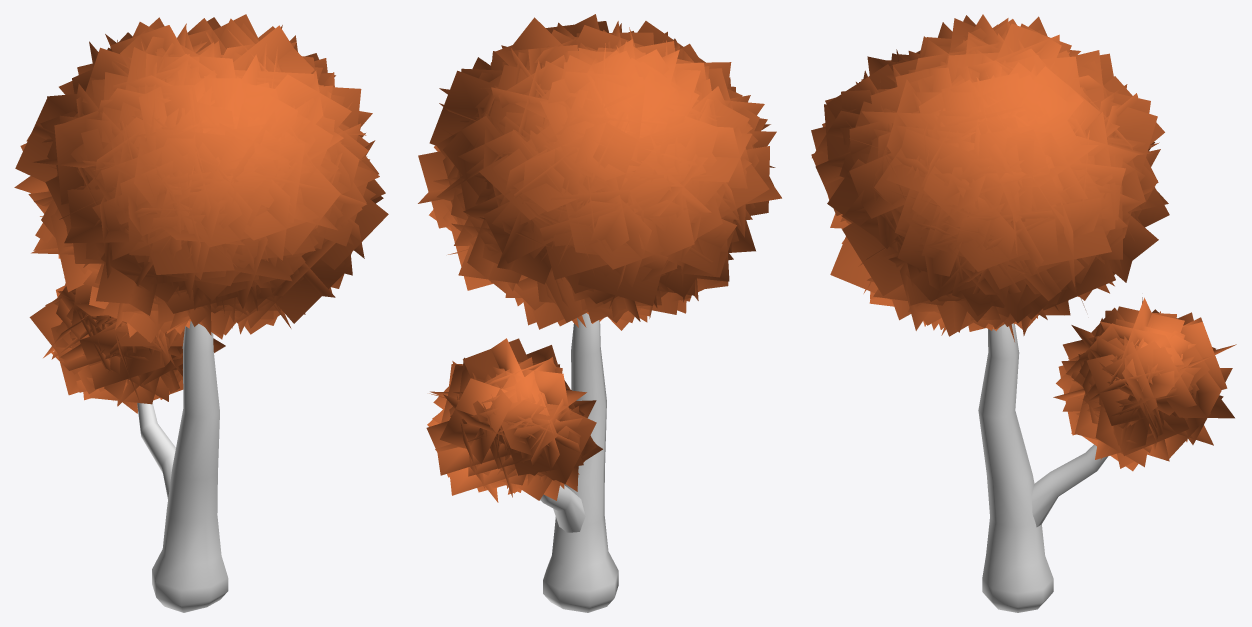
The model's file is SM_Tree_14.fbx.
The picture shows the model from 3 angles, left to right: view 1: azimuth 30°, elevation 25°; view 2: azimuth 150°, elevation 25°; view 3: azimuth 270°, elevation 25°; orthographic projection. The views are drawn at different scales.
Parts seen in each view (by area): view 1: SM_Tree_14_LOD0; view 2: SM_Tree_14_LOD0; view 3: SM_Tree_14_LOD0.
Boxes of the visible parts, left/top/right/bottom form: SM_Tree_14_LOD0: left=14, top=14, right=388, bottom=612; SM_Tree_14_LOD0: left=418, top=14, right=781, bottom=612; SM_Tree_14_LOD0: left=811, top=14, right=1236, bottom=612.
Bounding box in the file's own units: 605 × 1038 × 709.
